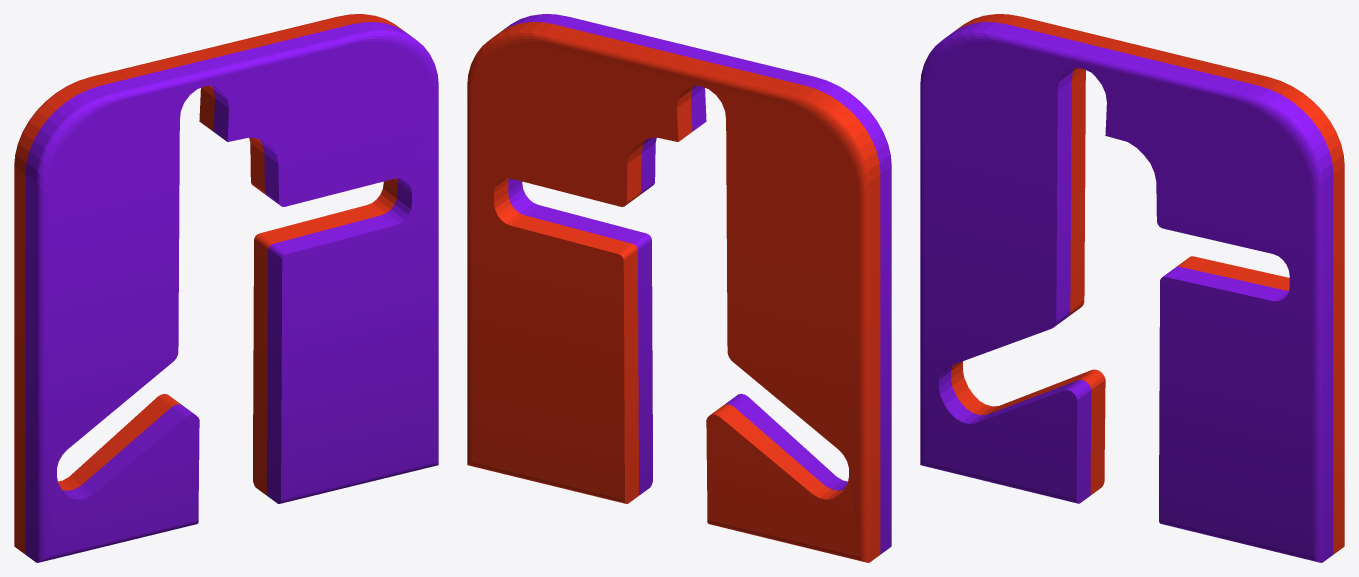
Rendered from wall_20.fbx.
The picture shows the model from 3 angles, left to right: view 1: azimuth 30°, elevation 25°; view 2: azimuth 150°, elevation 25°; view 3: azimuth 330°, elevation 25°; orthographic projection.
Parts seen in each view (by area): view 1: wall_20; view 2: wall_20; view 3: wall_20.
Boxes of the visible parts, x1,y1,x2,y2 form: wall_20: (14,14,438,562); wall_20: (467,14,891,562); wall_20: (920,14,1344,562).
Bounding box in the file's own units: 337 × 362 × 40.95.
Materials: 1 (1 with a texture image).
